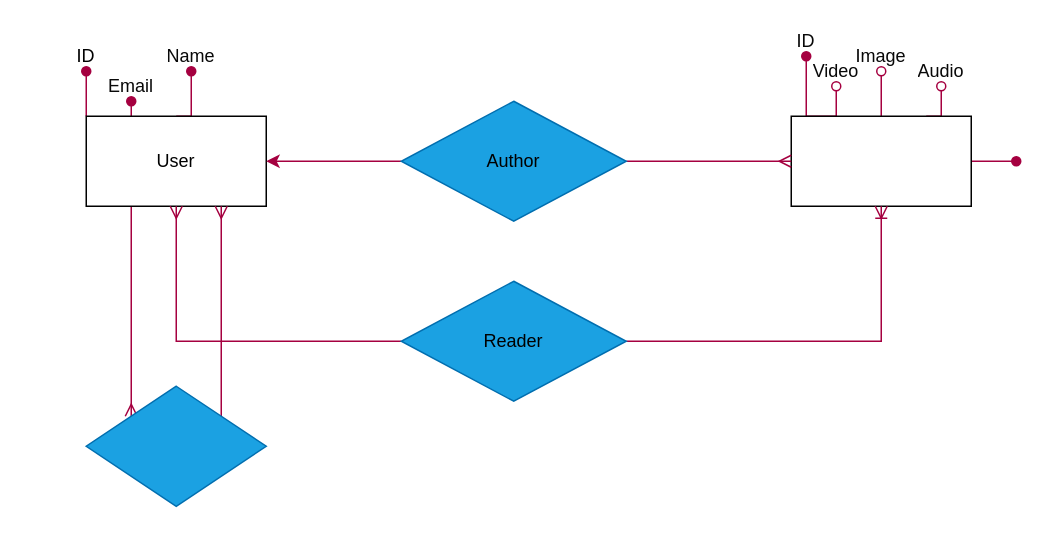
This 1055x533 diagram has some shape labels left out. The centre of each missing label's shape, as x and y in pixels:
Card: (880,160)
Friend: (175,445)
